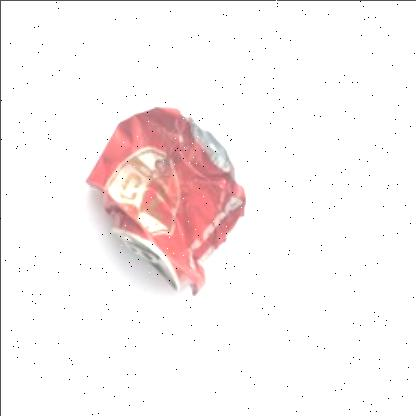Can: (85, 106, 249, 294)
